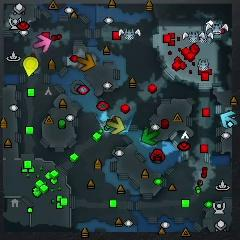p4: (23, 56, 39, 77)
x1: (34, 34, 51, 52)
x2: (106, 117, 125, 135)
x3: (220, 111, 238, 129)
x4: (141, 128, 159, 145)
x5: (78, 53, 96, 72)
